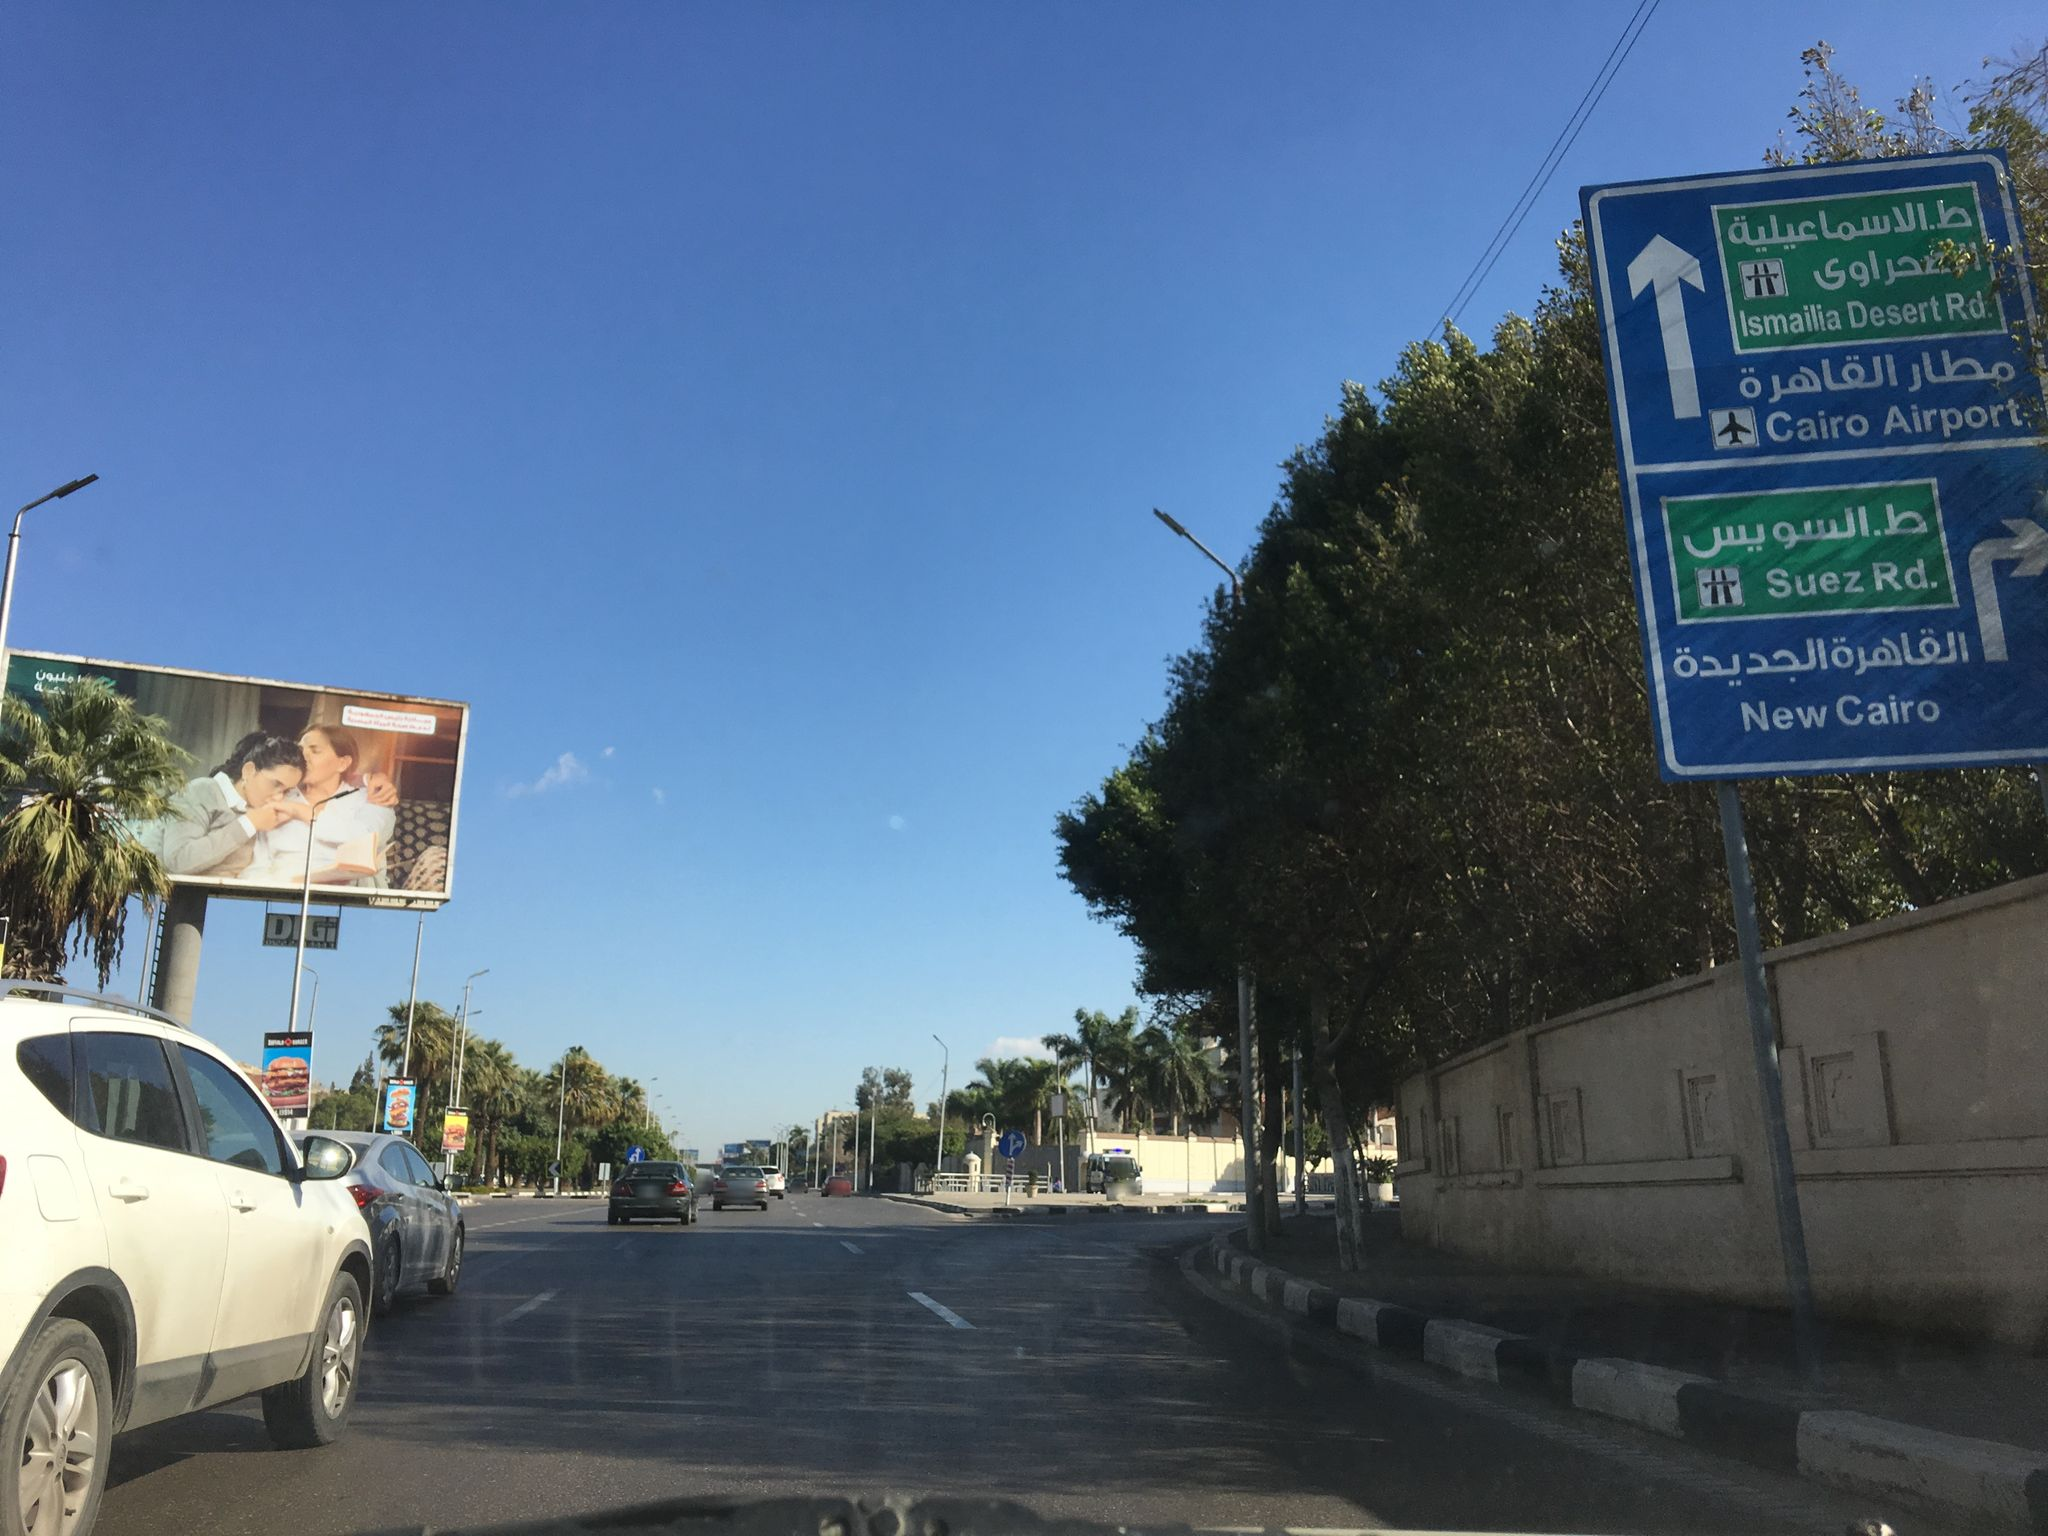car: (0, 975, 381, 1536), (290, 1128, 464, 1317), (606, 1158, 698, 1226), (710, 1163, 769, 1210), (1087, 1147, 1142, 1194), (758, 1165, 785, 1199), (819, 1175, 851, 1196)
